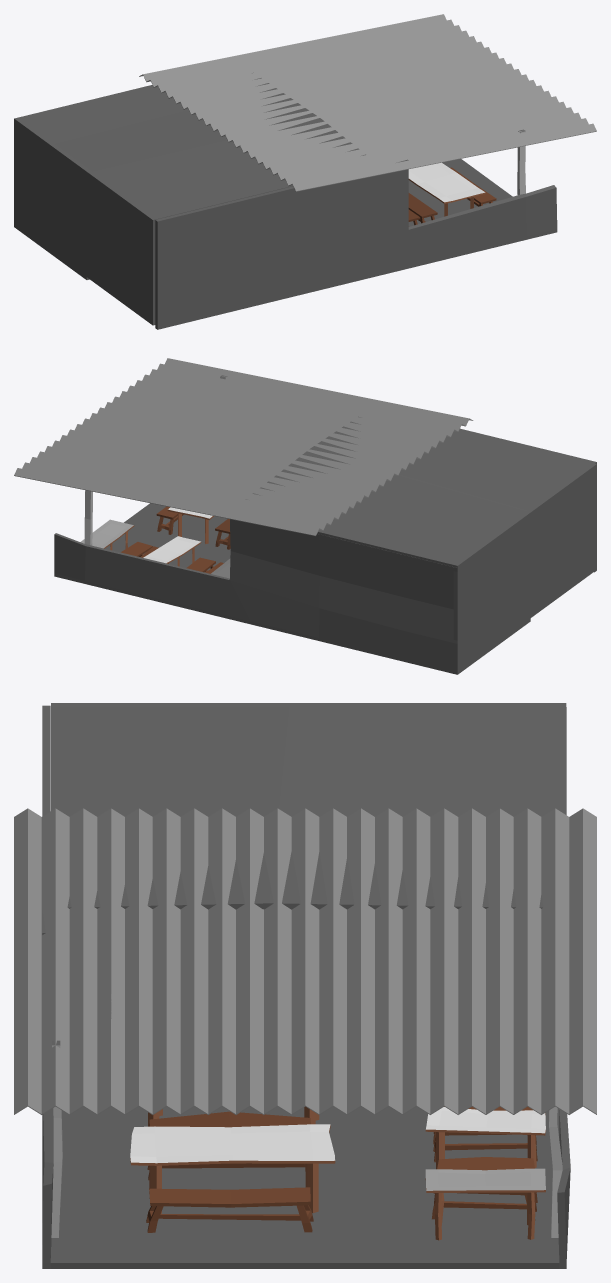
The model's file is warmindo.fbx.
3 views of the same model, one above another, from view 1: azimuth 30°, elevation 25°; view 2: azimuth 150°, elevation 25°; view 3: azimuth 270°, elevation 25° (orthographic). The views are drawn at different scales.
Visible parts, largest first — view 1: Cube; view 2: Cube; view 3: Cube.
Boxes of the visible parts, bbox=[...] form: Cube: bbox=[14, 14, 596, 329]; Cube: bbox=[14, 358, 596, 674]; Cube: bbox=[14, 703, 596, 1268].
Size of the model in its own units: 527 by 136 by 330.
